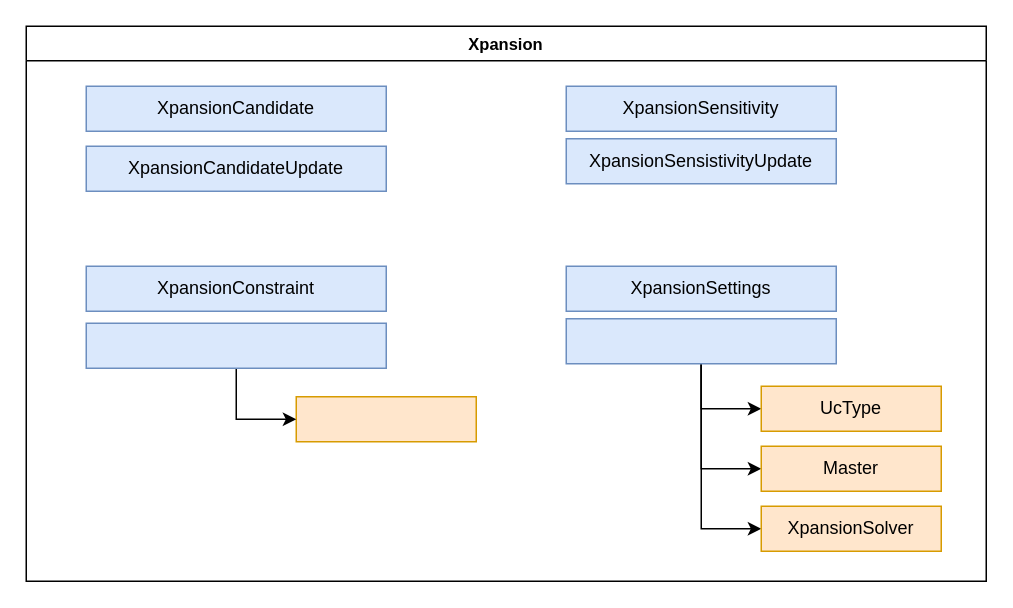
Some shapes in this 1013 by 608 pixel diagram are drawn without their labels. The shapes that lost their labels are listed below. From the top down, each one's centre as x and y in pixels, then its label:
point (235, 345): XpansionConstraintUpdate
point (700, 340): XpansionSettingsUpdate
point (385, 418): ConstraintSign
